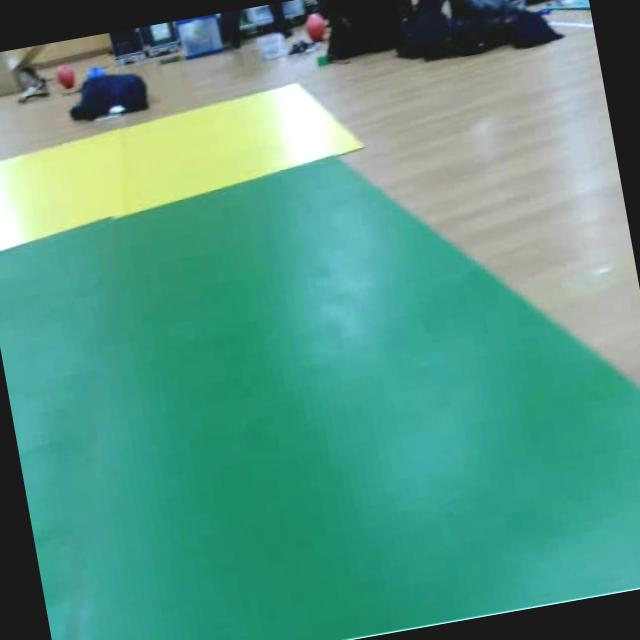blue_ball: (86, 64, 104, 76)
red_ball: (53, 60, 79, 90)
